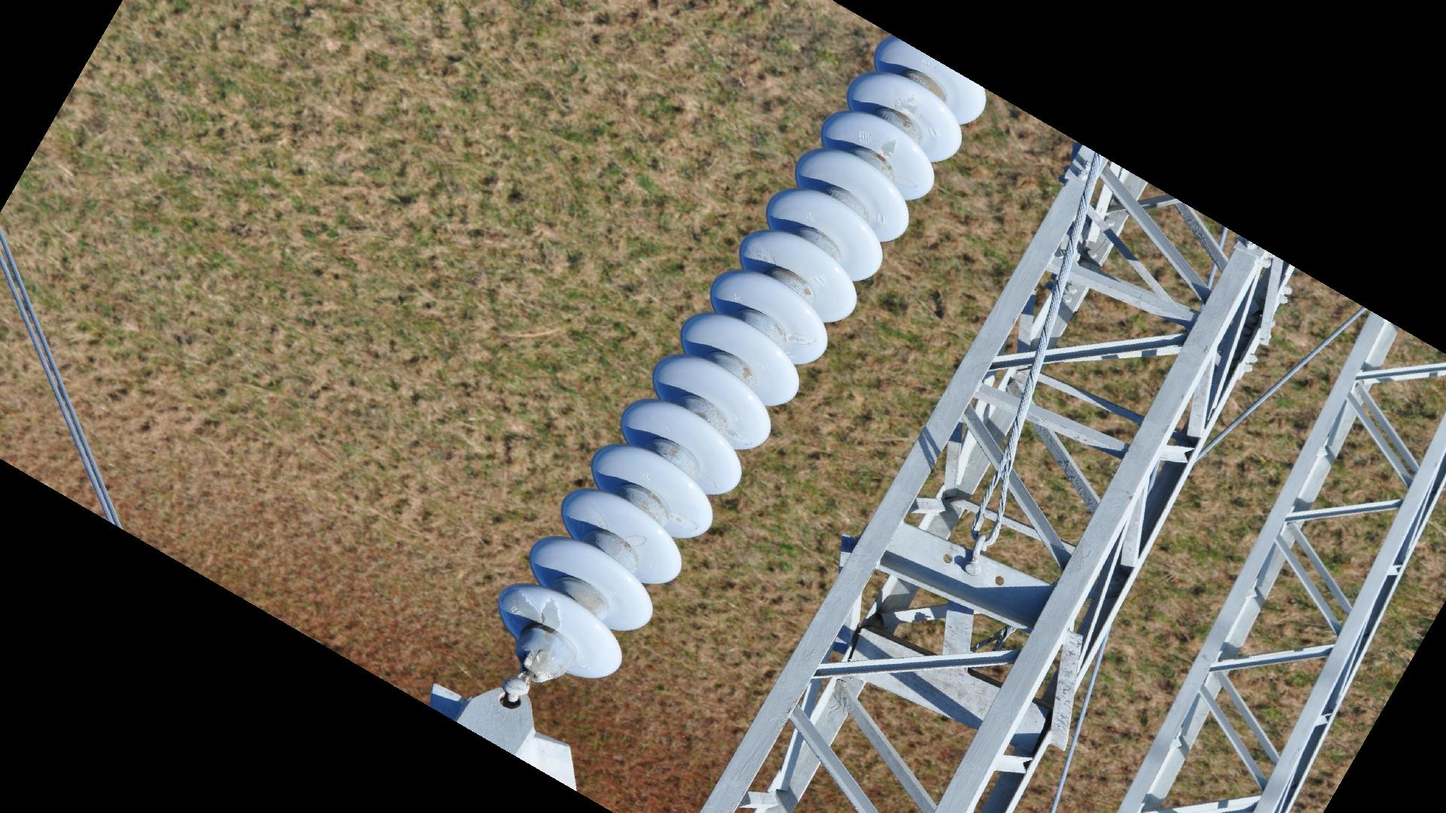insulator: (494, 26, 995, 687)
insulator_flashover: (499, 587, 563, 635)
